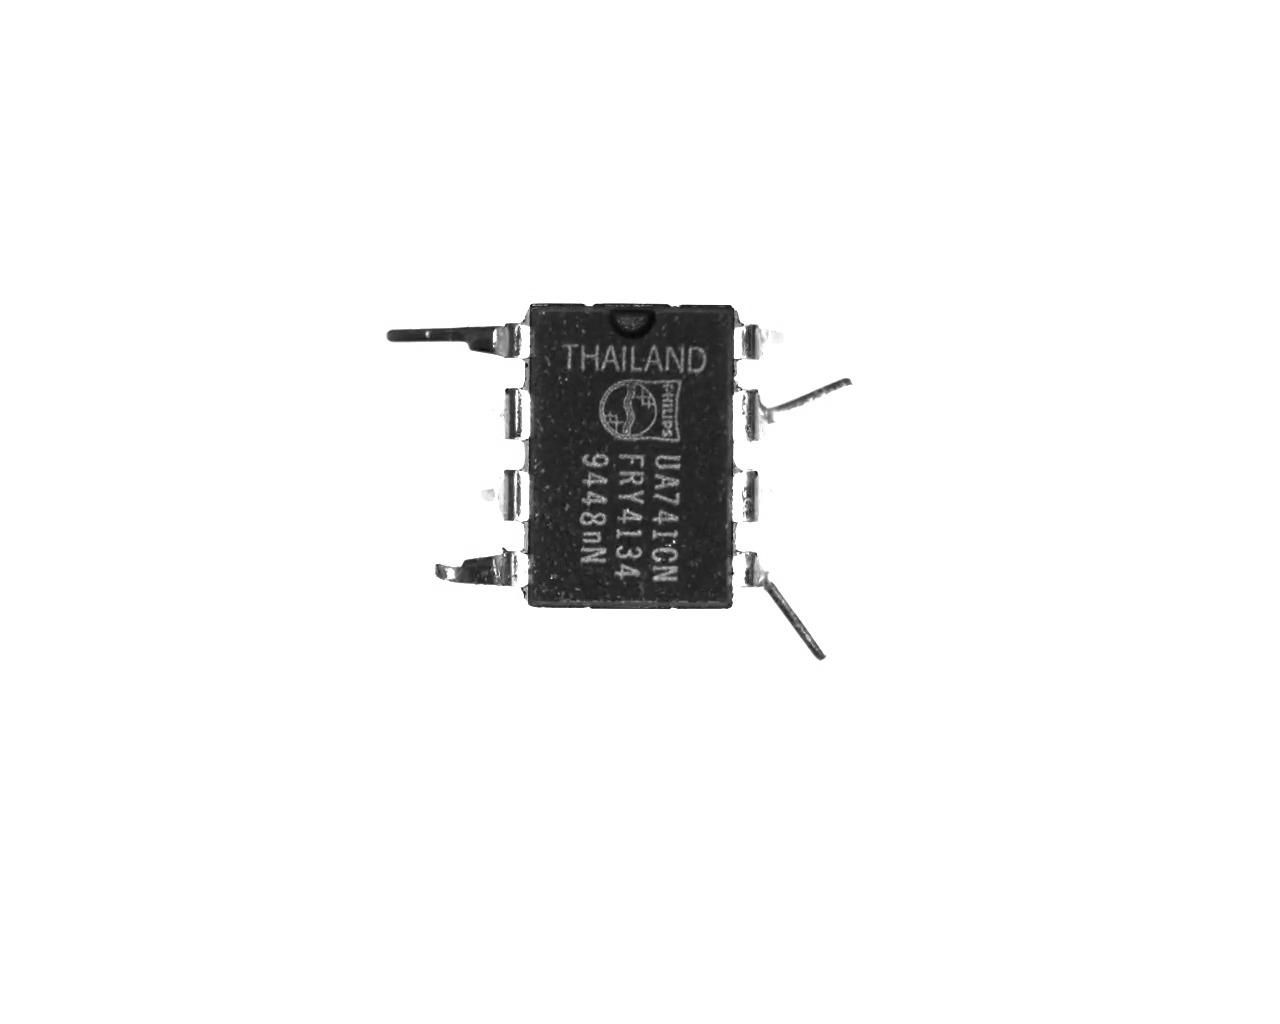Leg: (731, 543, 824, 660), (730, 377, 852, 441), (391, 320, 533, 366), (423, 545, 532, 596), (472, 468, 535, 526), (489, 380, 530, 447), (727, 463, 765, 527), (735, 326, 796, 360)
